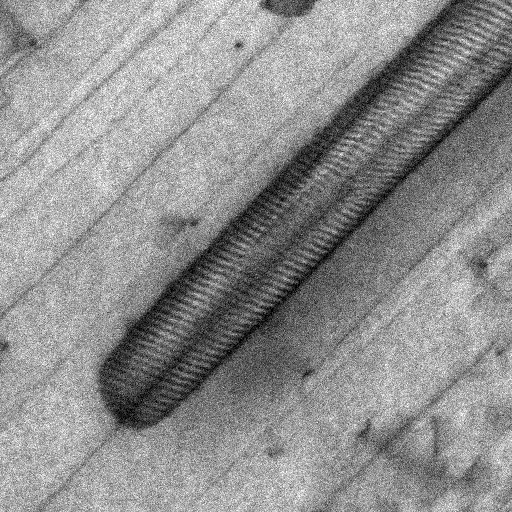y2o3: (469, 250, 497, 280), (167, 213, 204, 235), (299, 366, 320, 392), (262, 440, 287, 461), (24, 34, 42, 52), (0, 336, 14, 359), (230, 38, 248, 52)
